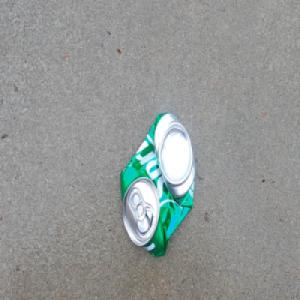SodaCan: (118, 108, 197, 258)
